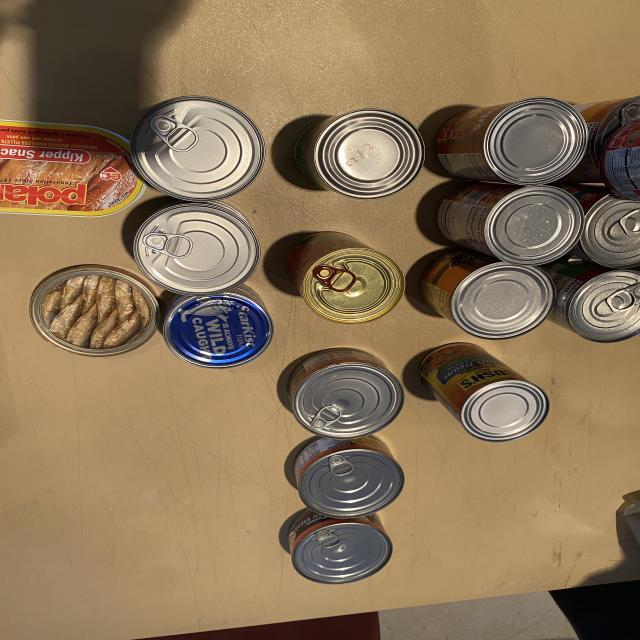Canned Fish: (0, 120, 145, 216), (30, 265, 160, 356), (288, 349, 403, 439), (293, 435, 403, 519), (163, 289, 273, 368), (288, 509, 392, 584), (230, 284, 265, 309)
Canned Food: (132, 96, 265, 201), (435, 98, 588, 185), (420, 342, 550, 441), (420, 249, 555, 339), (437, 182, 583, 265), (133, 202, 260, 295), (295, 109, 425, 199), (287, 231, 405, 324), (542, 260, 640, 342), (557, 184, 640, 269), (562, 96, 640, 182), (602, 120, 640, 201)
